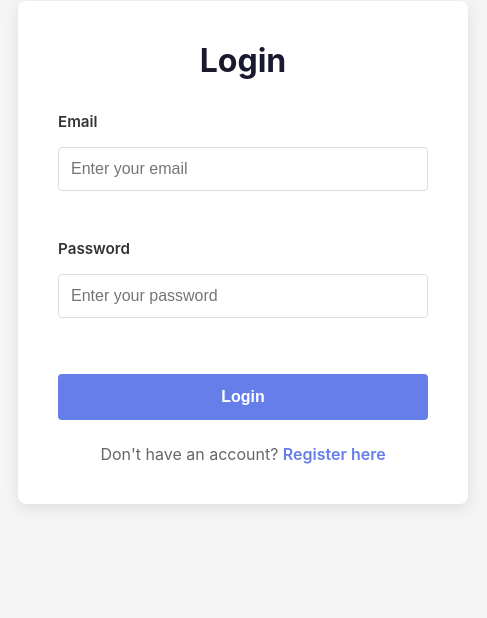
Test: Integration Tests - Complete Workflows › User Registration and Login Flow › should handle authentication errors gracefully
This screenshot has width=487, height=618.
In the field labelled "Email": (243, 169) [58,147,428,191], type "test@example.com"
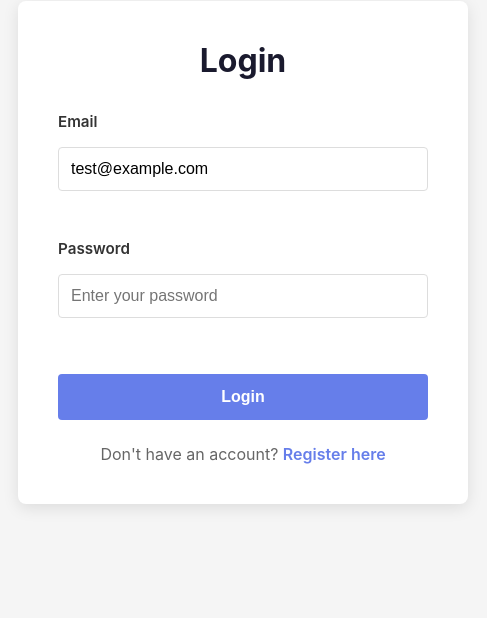
In the password field labelled "Password": (243, 296) [58,274,428,318], type "WrongPassword"
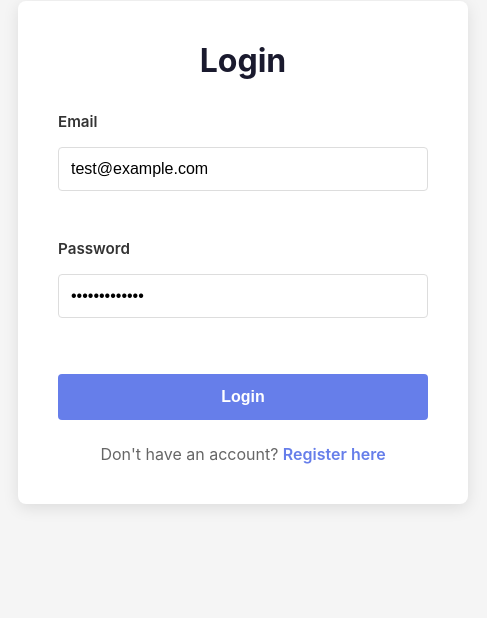
Click the button "Login": (243, 397) [58,374,428,420]
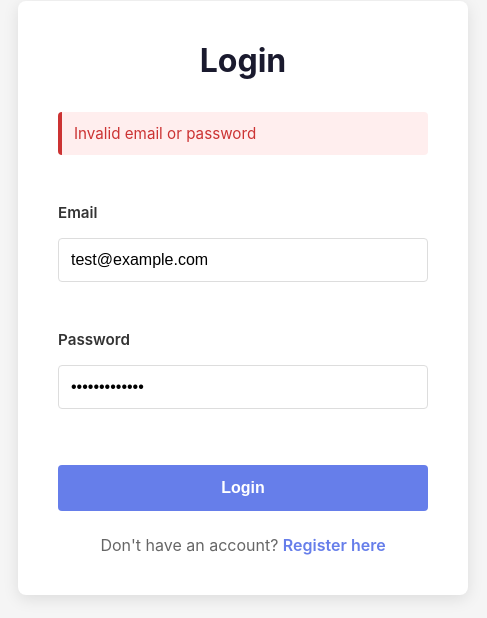
Expected: the text "Invalid email or password" is shown, [58,112,428,155]
